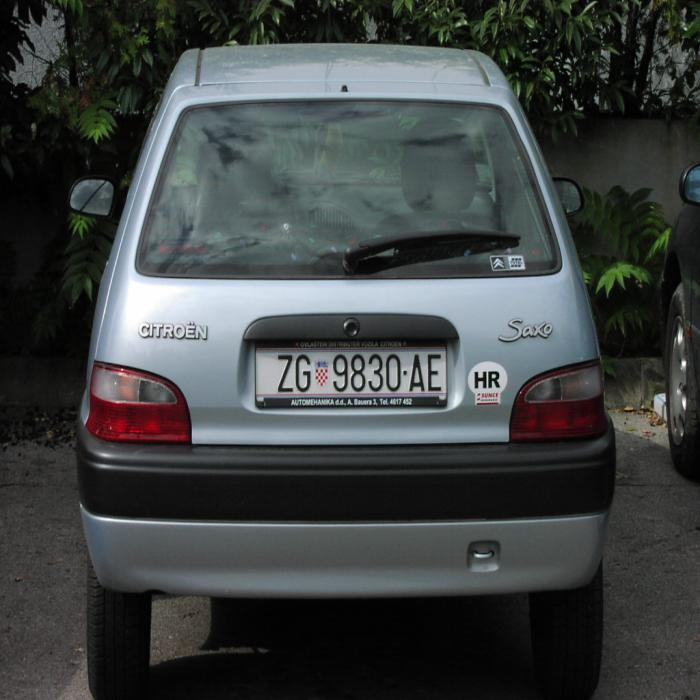number_plate: (256, 347, 443, 391)
